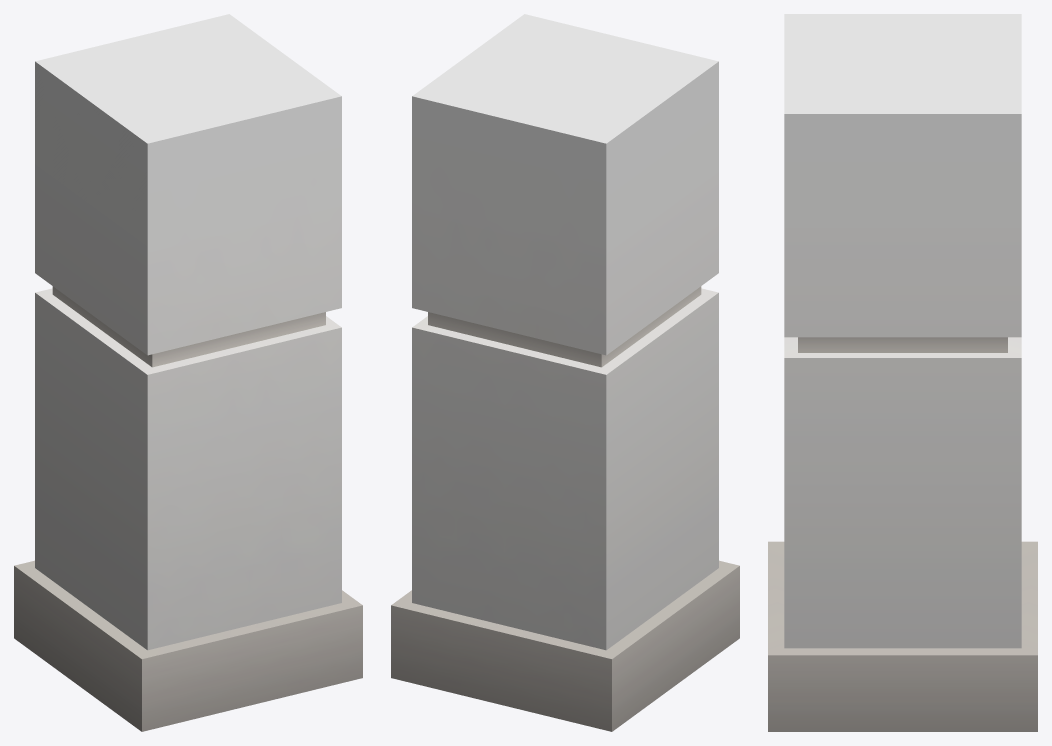
File: Wall_Divider_Pillar.fbx
The picture shows the model from 3 angles, left to right: view 1: azimuth 30°, elevation 25°; view 2: azimuth 150°, elevation 25°; view 3: azimuth 270°, elevation 25°; orthographic projection. The views are drawn at different scales.
Visible parts, largest first — view 1: Wall_Divider_Pillar; view 2: Wall_Divider_Pillar; view 3: Wall_Divider_Pillar.
Boxes of the visible parts, x1,y1,x2,y2 form: Wall_Divider_Pillar: (14, 14, 362, 731); Wall_Divider_Pillar: (391, 14, 739, 731); Wall_Divider_Pillar: (768, 14, 1037, 731).
Bounding box in the file's own units: 59.88 × 150 × 59.99.
